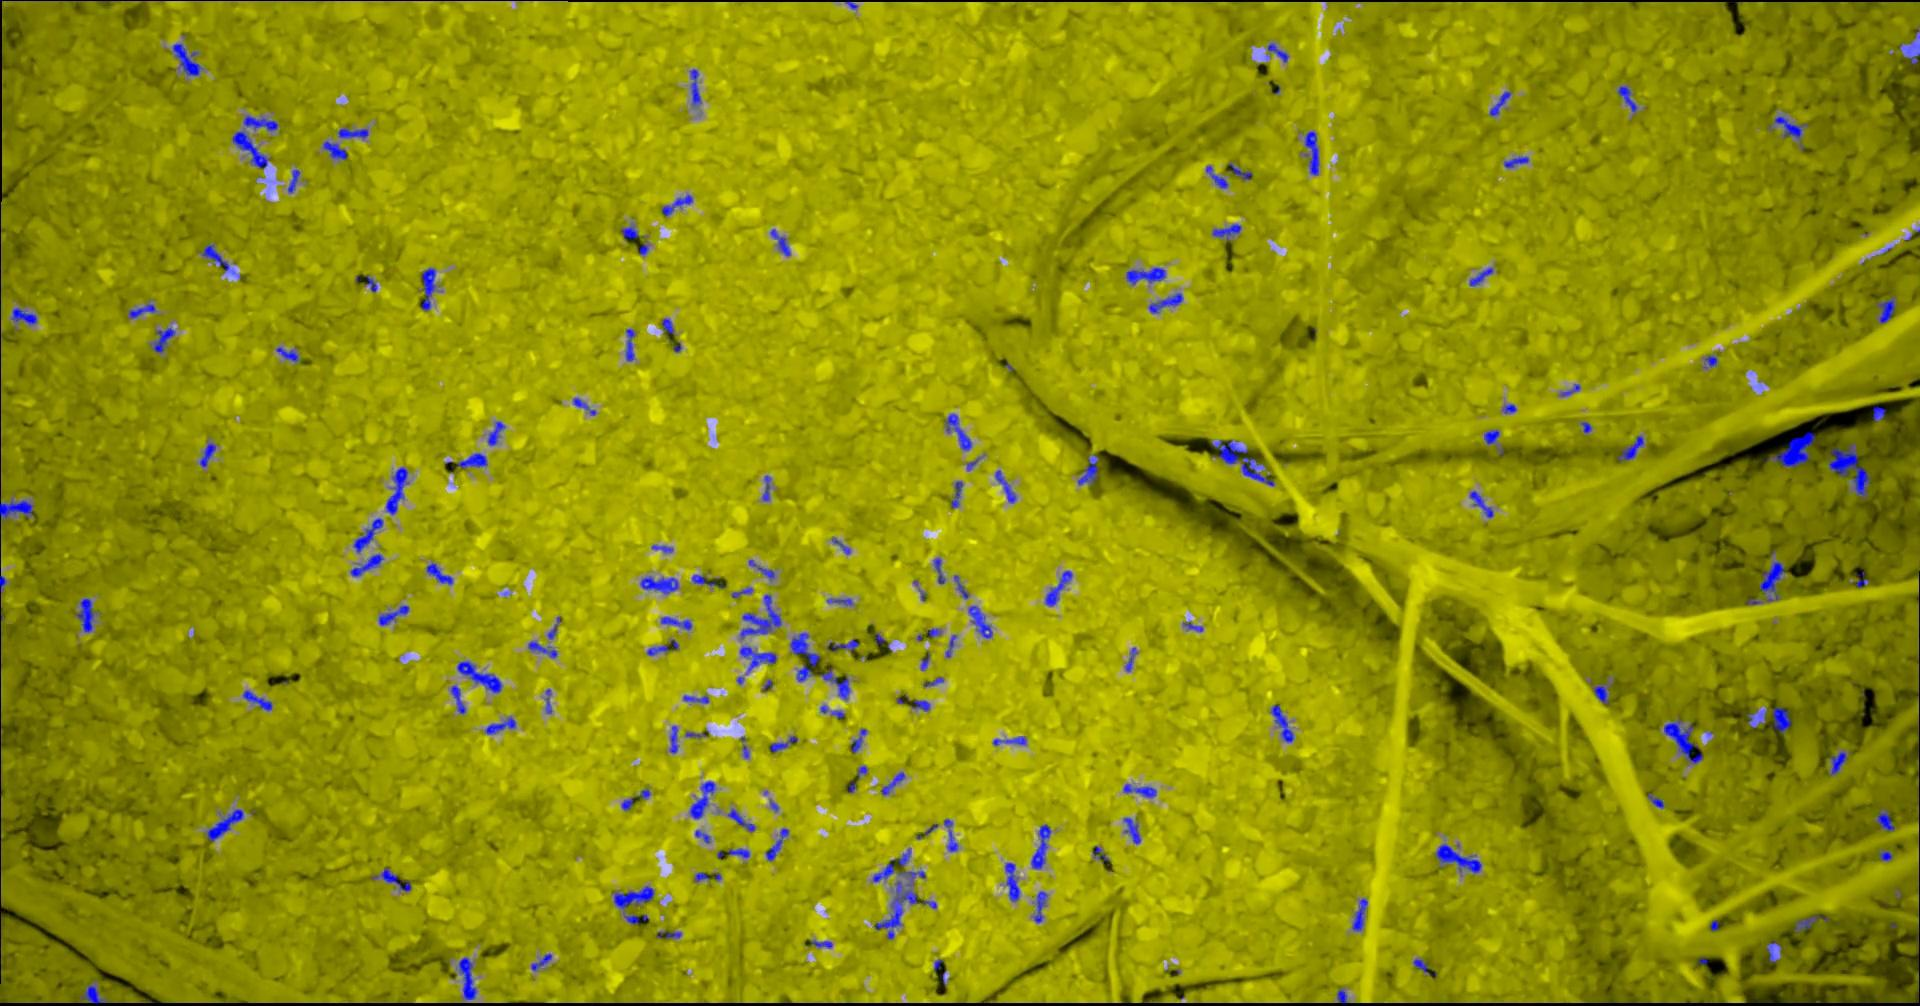ant: (1210, 439, 1272, 485), (1827, 442, 1870, 497), (875, 882, 916, 939), (739, 594, 781, 638), (1663, 718, 1702, 763), (1768, 431, 1815, 467), (789, 633, 820, 681), (456, 661, 502, 692), (232, 130, 269, 168), (1435, 843, 1481, 873), (872, 848, 910, 882), (206, 808, 243, 841), (385, 467, 408, 514), (1757, 561, 1784, 601), (353, 517, 382, 553), (943, 413, 971, 450), (818, 667, 850, 699), (690, 780, 715, 818), (1045, 570, 1072, 606), (371, 868, 411, 890), (171, 43, 201, 75), (1270, 704, 1294, 742), (613, 885, 653, 908), (739, 647, 776, 671), (1030, 824, 1050, 868), (968, 605, 992, 638), (0, 499, 34, 522), (201, 244, 229, 272), (72, 984, 110, 1005), (764, 828, 789, 860), (1774, 116, 1807, 138), (350, 553, 383, 575), (458, 956, 476, 998), (1617, 434, 1643, 461), (1125, 267, 1164, 285), (1148, 292, 1182, 312), (640, 575, 678, 593), (994, 470, 1015, 503), (662, 194, 692, 216), (420, 267, 436, 310), (1077, 453, 1098, 484), (75, 598, 94, 633), (151, 326, 175, 353), (1469, 490, 1493, 517), (728, 808, 756, 831), (1304, 131, 1318, 175), (425, 561, 452, 584), (243, 690, 270, 711), (378, 605, 408, 625), (770, 227, 790, 255), (1351, 898, 1368, 931), (748, 559, 775, 579), (485, 716, 516, 734), (1004, 862, 1018, 901), (646, 639, 678, 655), (243, 116, 277, 131), (881, 771, 904, 794), (1771, 706, 1790, 733), (1211, 224, 1239, 241), (1205, 165, 1227, 188), (1617, 86, 1637, 111), (1490, 91, 1510, 116), (1876, 297, 1895, 323), (456, 452, 488, 467), (1032, 890, 1048, 922), (1123, 817, 1140, 843), (825, 638, 858, 652), (770, 735, 797, 752), (1123, 782, 1156, 796), (943, 818, 957, 851), (1793, 915, 1821, 931), (323, 140, 347, 159), (1829, 751, 1848, 775), (527, 641, 556, 657), (1469, 267, 1492, 286), (571, 398, 596, 415), (450, 685, 465, 713), (691, 574, 724, 587), (850, 728, 866, 753), (1413, 958, 1436, 976), (1227, 163, 1251, 179), (11, 307, 36, 324), (488, 420, 504, 445), (1267, 42, 1288, 61), (660, 616, 691, 629), (1876, 809, 1895, 829), (530, 953, 551, 970), (690, 69, 700, 105), (128, 304, 155, 318), (337, 127, 367, 138), (199, 443, 215, 466), (952, 575, 968, 598), (276, 347, 300, 361), (992, 735, 1025, 746), (950, 481, 963, 507), (1766, 941, 1782, 962), (625, 328, 634, 361), (1092, 845, 1109, 862), (1906, 41, 1919, 64), (1592, 683, 1608, 702), (1124, 647, 1135, 671), (287, 169, 298, 192), (933, 558, 943, 583), (1647, 793, 1663, 808), (669, 725, 678, 753), (1503, 156, 1528, 166), (682, 694, 709, 702), (1483, 429, 1498, 445), (910, 699, 930, 710), (623, 915, 648, 923), (1872, 405, 1886, 420), (695, 829, 710, 843), (621, 226, 637, 239), (898, 870, 924, 878), (762, 475, 770, 500), (728, 848, 749, 857), (810, 939, 832, 948), (662, 318, 673, 334), (657, 930, 681, 937), (651, 544, 672, 553), (1336, 987, 1346, 1005), (364, 276, 376, 291), (1855, 572, 1867, 587), (1704, 354, 1717, 367), (825, 598, 851, 605), (1877, 850, 1892, 860), (545, 688, 551, 713)
